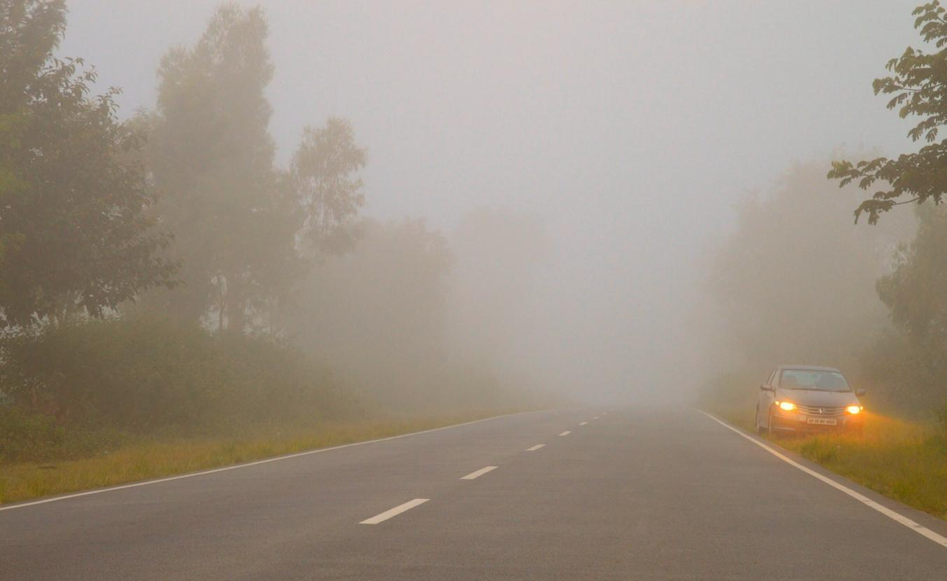bed: (300, 393, 946, 575)
bus: (753, 364, 863, 440)
car: (793, 371, 927, 439), (752, 363, 865, 439)
person: (206, 269, 227, 331)
truck: (753, 364, 863, 440)
